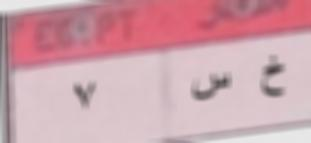7: (67, 77, 104, 115)
khaa: (256, 50, 288, 100)
seen: (189, 69, 232, 104)
